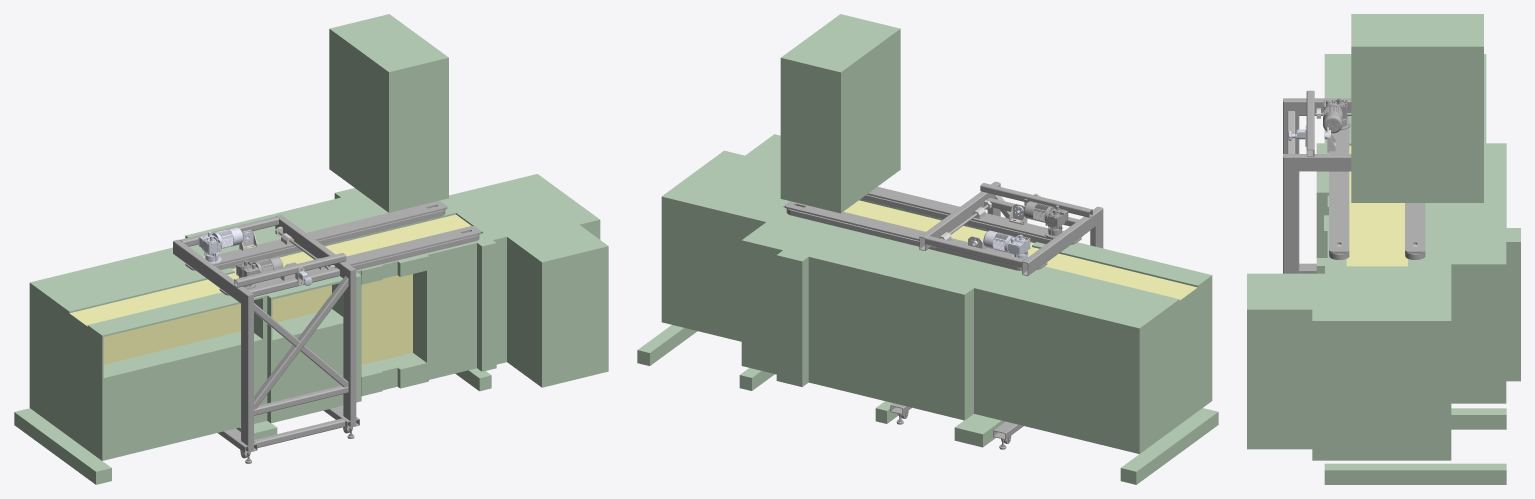
The picture shows the model from 3 angles, left to right: view 1: azimuth 30°, elevation 25°; view 2: azimuth 150°, elevation 25°; view 3: azimuth 270°, elevation 25°; orthographic projection. The views are drawn at different scales.
Visible parts, largest first — view 1: AMC_Vomere_Carpenteria a Forche-1, AMC_Vomere_Carpenteria a Forche_Esportazione STEP-1, c24010_amc_lamiera_base_r01-1, Mirrorc24010_amc_lamiera_base_r01-1, c24010_amc_cinghia_r01-1, PC 230M3T 40 B5S-1, Mirrorc24010_amc_cinghia_r01-1; view 2: AMC_Vomere_Carpenteria a Forche-1, AMC_Vomere_Carpenteria a Forche_Esportazione STEP-1, Mirrorc24010_amc_lamiera_base_r01-1, c24010_amc_lamiera_base_r01-1, c24010_amc_cinghia_r01-1, Mirrorc24010_amc_cinghia_r01-1, MirrorPC 230M3T 40 B5S-1, PC 230M3T 40 B5S-1; view 3: AMC_Vomere_Carpenteria a Forche-1, AMC_Vomere_Carpenteria a Forche_Esportazione STEP-1, Mirrorc24010_amc_lamiera_base_r01-1, c24010_amc_lamiera_base_r01-1, MirrorPC 230M3T 40 B5S-1.
Boxes of the visible parts, left/top/right/bottom form: AMC_Vomere_Carpenteria a Forche-1: left=14, top=14, right=608, bottom=484; AMC_Vomere_Carpenteria a Forche_Esportazione STEP-1: left=173, top=214, right=359, bottom=453; c24010_amc_lamiera_base_r01-1: left=185, top=201, right=447, bottom=270; Mirrorc24010_amc_lamiera_base_r01-1: left=219, top=226, right=481, bottom=295; c24010_amc_cinghia_r01-1: left=215, top=208, right=445, bottom=269; PC 230M3T 40 B5S-1: left=198, top=227, right=243, bottom=257; Mirrorc24010_amc_cinghia_r01-1: left=352, top=235, right=479, bottom=270; AMC_Vomere_Carpenteria a Forche-1: left=637, top=14, right=1218, bottom=484; AMC_Vomere_Carpenteria a Forche_Esportazione STEP-1: left=890, top=181, right=1103, bottom=439; Mirrorc24010_amc_lamiera_base_r01-1: left=867, top=186, right=1081, bottom=244; c24010_amc_lamiera_base_r01-1: left=784, top=201, right=1047, bottom=269; c24010_amc_cinghia_r01-1: left=786, top=207, right=1021, bottom=270; Mirrorc24010_amc_cinghia_r01-1: left=861, top=194, right=1051, bottom=243; MirrorPC 230M3T 40 B5S-1: left=1023, top=201, right=1068, bottom=231; PC 230M3T 40 B5S-1: left=983, top=230, right=1030, bottom=256; AMC_Vomere_Carpenteria a Forche-1: left=1247, top=14, right=1520, bottom=484; AMC_Vomere_Carpenteria a Forche_Esportazione STEP-1: left=1283, top=90, right=1351, bottom=273; Mirrorc24010_amc_lamiera_base_r01-1: left=1329, top=116, right=1349, bottom=253; c24010_amc_lamiera_base_r01-1: left=1405, top=203, right=1425, bottom=253; MirrorPC 230M3T 40 B5S-1: left=1323, top=99, right=1347, bottom=133.
Size of the model in its own units: 3.14 by 1.98 by 1.34.
